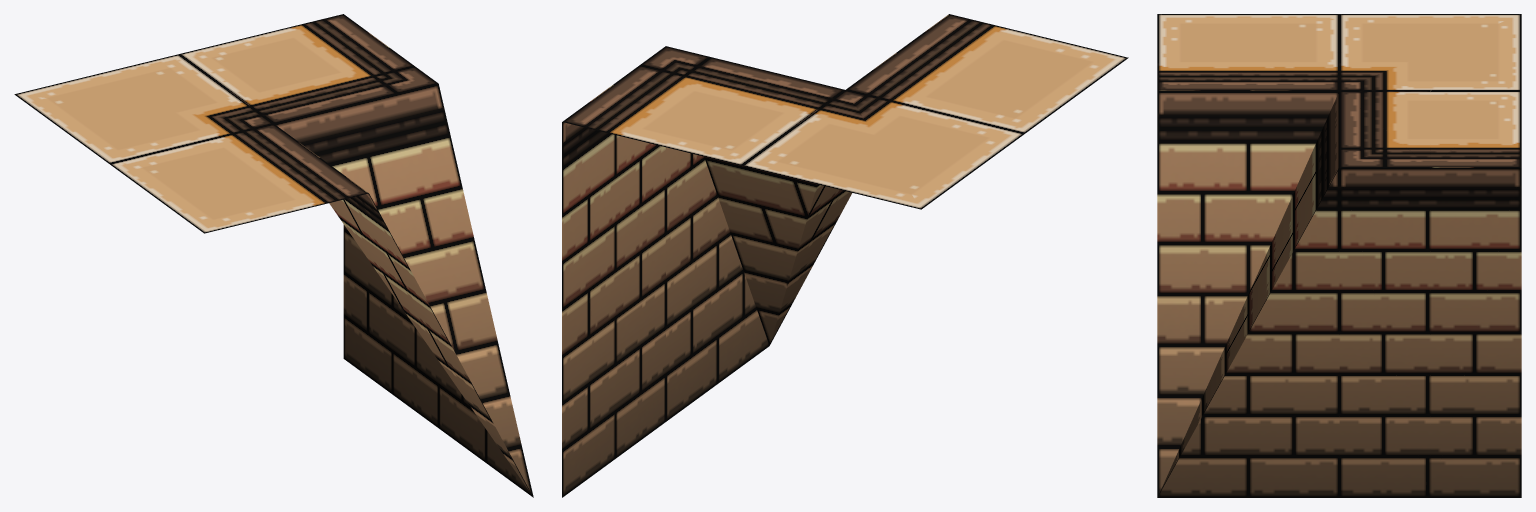
File: wall_cornerInCap_A.FBX
The picture shows the model from 3 angles, left to right: view 1: azimuth 30°, elevation 25°; view 2: azimuth 150°, elevation 25°; view 3: azimuth 270°, elevation 25°; orthographic projection. The views are drawn at different scales.
Parts seen in each view (by area): view 1: wall_cornerInCap_A; view 2: wall_cornerInCap_A; view 3: wall_cornerInCap_A.
Boxes of the visible parts, <box> form: wall_cornerInCap_A: <box>14,14,533,497</box>; wall_cornerInCap_A: <box>562,14,1128,497</box>; wall_cornerInCap_A: <box>1157,14,1521,497</box>.
Size of the model in its own units: 4 by 4 by 4.
1 material, 1 textured.
